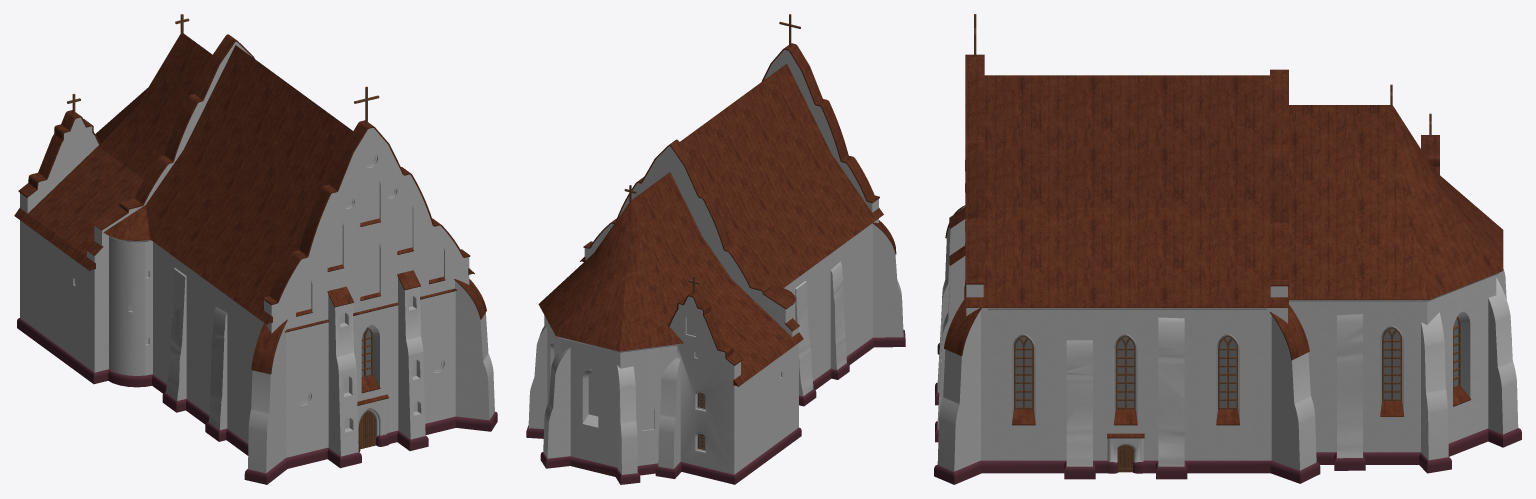
File: Iszkaldz.glb
3 views of the same model, side by side, from view 1: azimuth 30°, elevation 25°; view 2: azimuth 150°, elevation 25°; view 3: azimuth 270°, elevation 25° (orthographic). The views are drawn at different scales.
Visible parts, largest first — view 1: Iszkaldz.001_Iszkaldz.003; view 2: Iszkaldz.001_Iszkaldz.003; view 3: Iszkaldz.001_Iszkaldz.003.
Part boxes in pixels (left/top/right/bottom): Iszkaldz.001_Iszkaldz.003: left=14, top=14, right=497, bottom=484; Iszkaldz.001_Iszkaldz.003: left=526, top=14, right=905, bottom=484; Iszkaldz.001_Iszkaldz.003: left=934, top=14, right=1521, bottom=484.
Bounding box in the file's own units: 16.69 × 21.23 × 28.04.
Materials: 5 (4 with a texture image).
